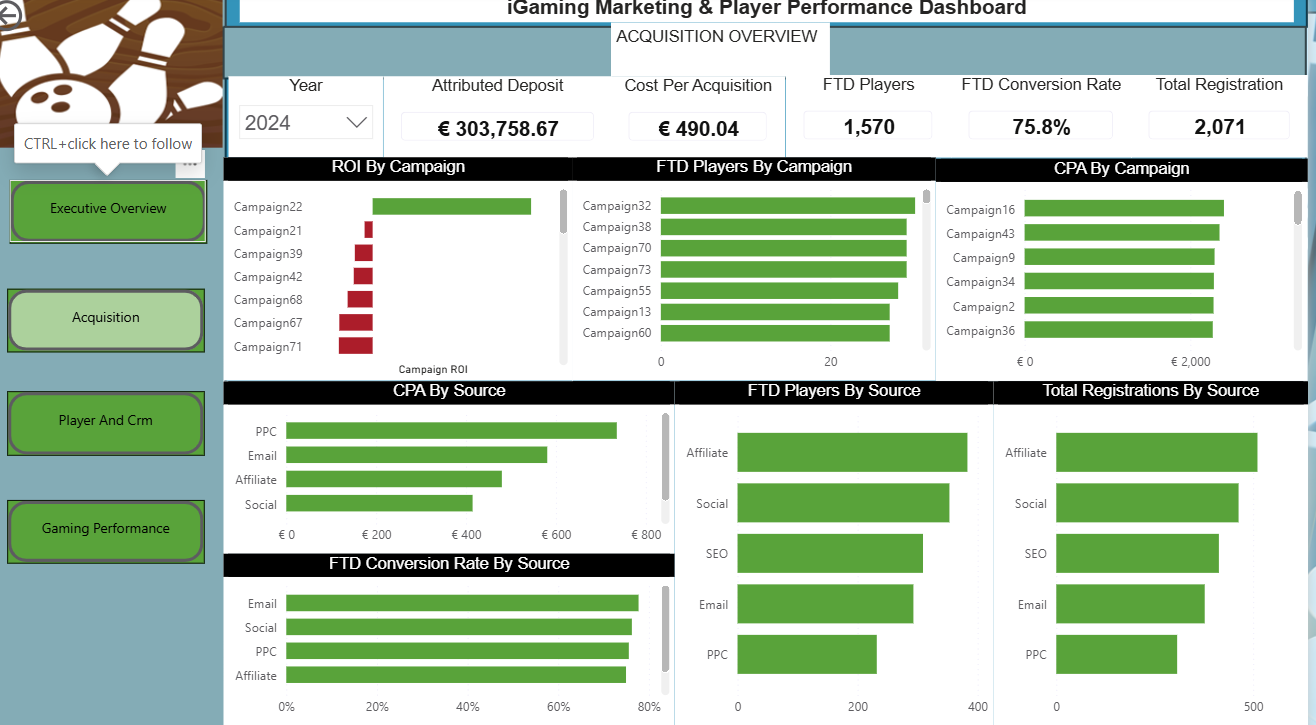

Layout of this report page (visuals, bound fields, positions):
{"tool":"powerbi","page":{"name":"Acquisition","canvas":[1280,720],"ordinal":2},"visuals":[{"type":"actionButton","title":"Executive Overview","box":[22.5,178.6,191.1,61.2],"z":0},{"type":"actionButton","title":"Executive Overview","box":[20,284.8,191.1,61.2],"z":1000},{"type":"actionButton","title":"Executive Overview","box":[20,383.5,191.1,62.5],"z":2000},{"type":"actionButton","title":"Executive Overview","box":[20,489.6,191.1,61.2],"z":3000},{"type":"slicer","title":"Year","fields":{"Values":["DateTable.Year"]},"box":[234.8,78.7,149.9,78.7],"z":4000},{"type":"cardVisual","title":"Total Registration","fields":{"Data":["Executive KPI Measure.Total Registrations"]},"box":[1109.1,77.4,171.1,79.9],"z":5000},{"type":"cardVisual","title":"FTD Players","fields":{"Data":["Executive KPI Measure.FTD Players"]},"box":[774.4,77.4,159.9,79.9],"z":6000},{"type":"cardVisual","title":"FTD Conversion Rate","fields":{"Data":["Executive KPI Measure.FTD Convertion Rate"]},"box":[934.3,77.4,174.9,79.9],"z":7000},{"type":"cardVisual","title":" Attributed Deposit","fields":{"Data":["Acquisition KPI Measure.campaign attibuted Deposit"]},"box":[384.7,78.7,221.1,79.9],"z":8000},{"type":"cardVisual","title":"Cost Per Acquisition","fields":{"Data":["Acquisition KPI Measure.Cost Per Acquisition CPA"]},"box":[605.8,78.7,168.6,79.9],"z":9000},{"type":"clusteredBarChart","title":"FTD Players By Source","fields":{"Category":["TrafficSource.SourceName"],"Y":["Executive KPI Measure.FTD Players"]},"box":[667,373.5,308.5,333.5],"z":10000},{"type":"clusteredBarChart","title":" CPA By Source","fields":{"Category":["TrafficSource.SourceName"],"Y":["Acquisition KPI Measure.Cost Per Acquisition CPA"]},"box":[229.8,373.5,437.2,167.4],"z":11000},{"type":"clusteredBarChart","title":"Total Registrations By Source","fields":{"Category":["TrafficSource.SourceName"],"Y":["Executive KPI Measure.Total Registrations"]},"box":[975.5,373.5,304.8,333.5],"z":12000},{"type":"clusteredBarChart","title":"FTD Conversion Rate By Source","fields":{"Category":["TrafficSource.SourceName"],"Y":["Executive KPI Measure.FTD Convertion Rate"]},"box":[229.8,540.8,437.2,166.1],"z":13000},{"type":"clusteredBarChart","title":"FTD Players By Campaign","fields":{"Category":["Campaign.CampaignName"],"Y":["Executive KPI Measure.FTD Players"]},"box":[568.3,157.4,352.2,216.1],"z":14000},{"type":"clusteredBarChart","title":" CPA By Campaign","fields":{"Category":["Campaign.CampaignName"],"Y":["Acquisition KPI Measure.Campaign CPA"]},"box":[920.5,158.6,359.7,214.8],"z":15000},{"type":"actionButton","box":[0,0,100,40],"z":16000},{"type":"clusteredBarChart","title":" ROI By Campaign","fields":{"Category":["Campaign.CampaignName"],"Y":["Acquisition KPI Measure.Campaign ROI"]},"box":[229.8,157.4,338.5,216.1],"z":17000},{"type":"textbox","box":[605.8,26.7,211.6,52.3],"z":18000},{"type":"textbox","title":"iGaming Marketing & Player Performance Dashboard","box":[245.7,0,1020.4,26.6],"z":19000}]}

Visuals, with their boxes on the page's 1280x720 design canvas (x1, y1, x2, y2). These are canvas units, not pixel positions in the 1316x725 screenshot, which may show the page scaled, cropped or inside an application window:
"Executive Overview" actionButton: crop(22, 179, 214, 240)
"Executive Overview" actionButton: crop(20, 285, 211, 346)
"Executive Overview" actionButton: crop(20, 384, 211, 446)
"Executive Overview" actionButton: crop(20, 490, 211, 551)
"Year" slicer: crop(235, 79, 385, 157)
"Total Registration" cardVisual: crop(1109, 77, 1280, 157)
"FTD Players" cardVisual: crop(774, 77, 934, 157)
"FTD Conversion Rate" cardVisual: crop(934, 77, 1109, 157)
" Attributed Deposit" cardVisual: crop(385, 79, 606, 159)
"Cost Per Acquisition" cardVisual: crop(606, 79, 774, 159)
"FTD Players By Source" clusteredBarChart: crop(667, 374, 976, 707)
" CPA By Source" clusteredBarChart: crop(230, 374, 667, 541)
"Total Registrations By Source" clusteredBarChart: crop(976, 374, 1280, 707)
"FTD Conversion Rate By Source" clusteredBarChart: crop(230, 541, 667, 707)
"FTD Players By Campaign" clusteredBarChart: crop(568, 157, 920, 374)
" CPA By Campaign" clusteredBarChart: crop(920, 159, 1280, 373)
actionButton: crop(0, 0, 100, 40)
" ROI By Campaign" clusteredBarChart: crop(230, 157, 568, 374)
textbox: crop(606, 27, 817, 79)
"iGaming Marketing & Player Performance Dashboard" textbox: crop(246, 0, 1266, 27)
